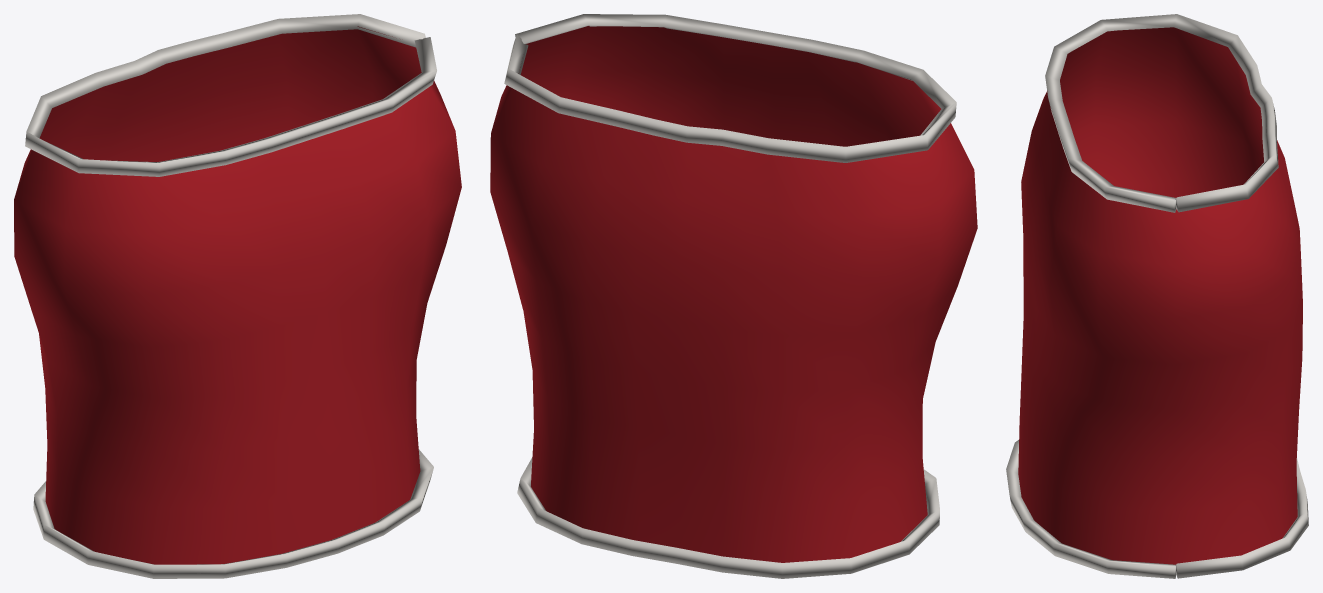
Rendered from santa_costume_chest.glb.
3 views of the same model, side by side, from view 1: azimuth 30°, elevation 25°; view 2: azimuth 150°, elevation 25°; view 3: azimuth 270°, elevation 25° (orthographic). The views are drawn at different scales.
Parts seen in each view (by area): view 1: santa_costume_chest; view 2: santa_costume_chest; view 3: santa_costume_chest.
Boxes of the visible parts, bbox=[...] form: santa_costume_chest: bbox=[14, 14, 461, 578]; santa_costume_chest: bbox=[490, 14, 977, 578]; santa_costume_chest: bbox=[1006, 14, 1308, 578].
Bounding box in the file's own units: 0.4168 × 0.3859 × 0.2708.
